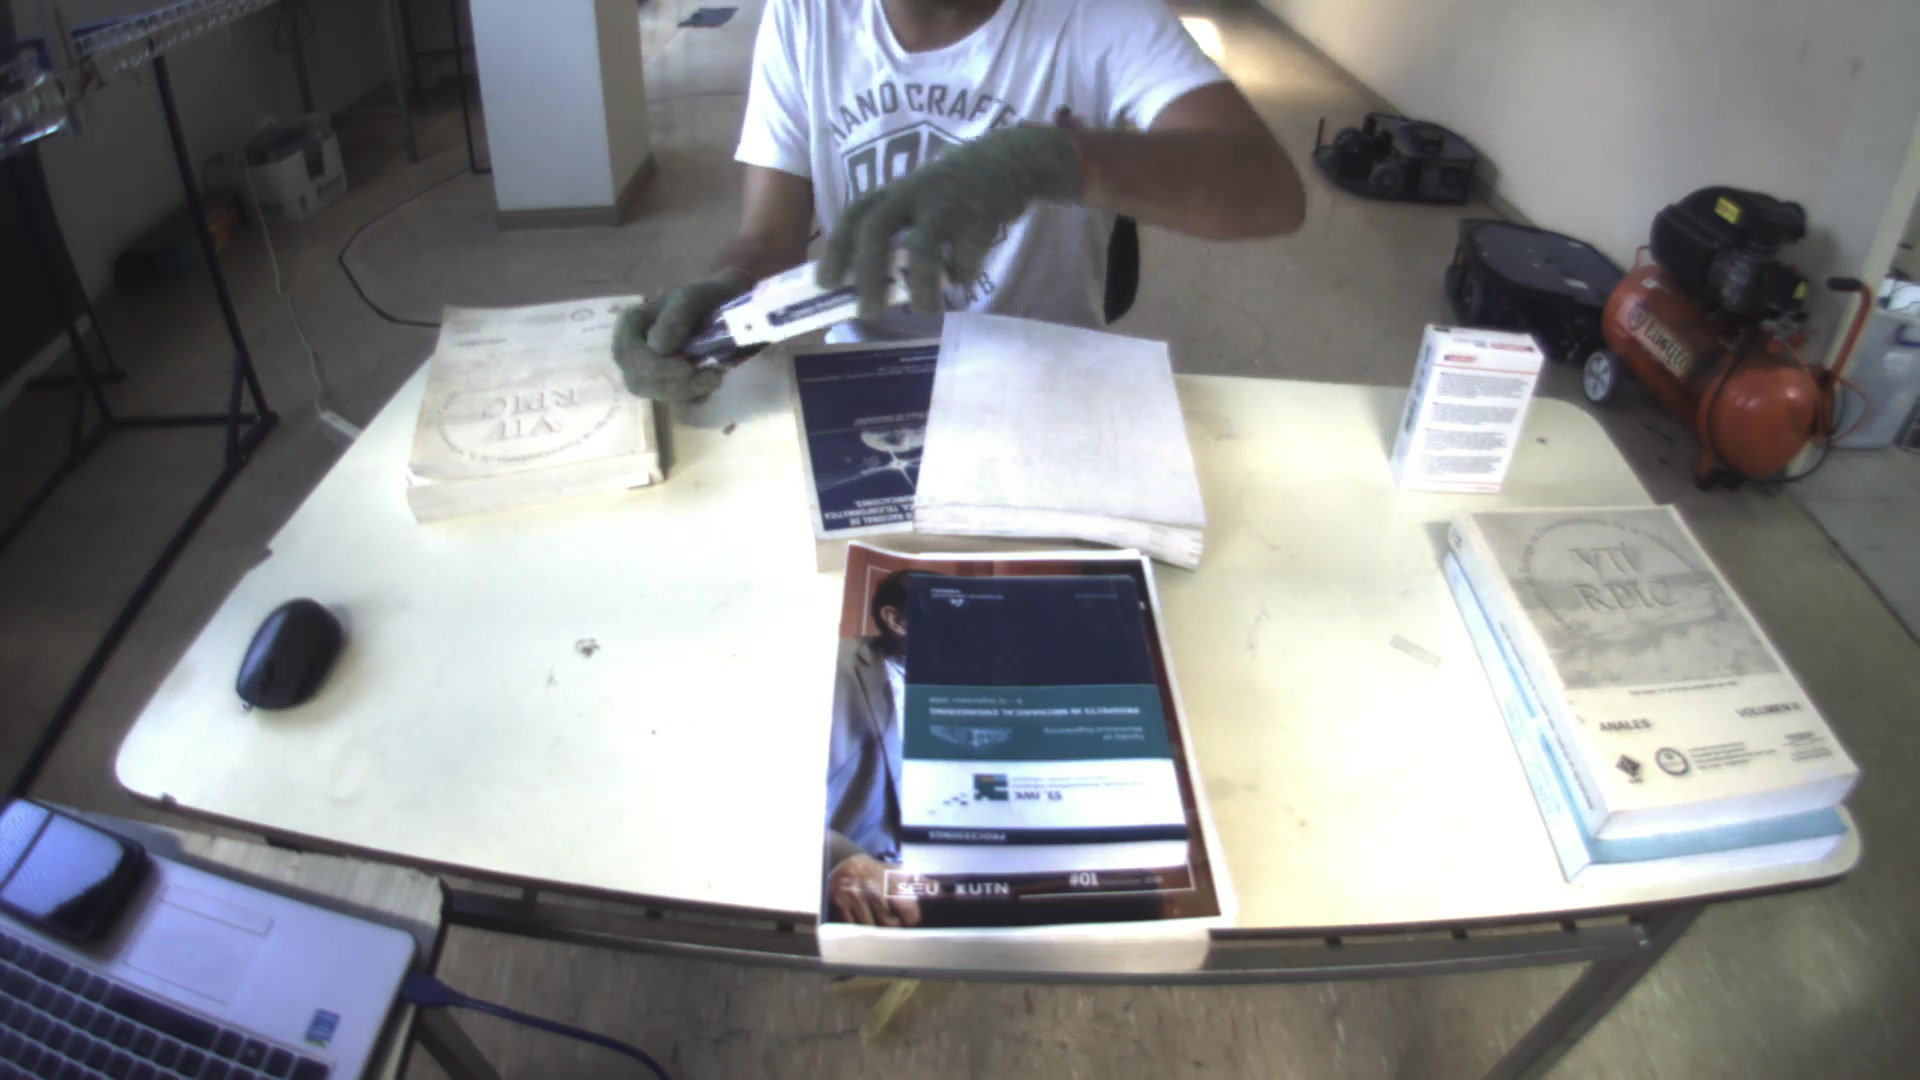hand: (808, 125, 1079, 320), (609, 269, 757, 413)
